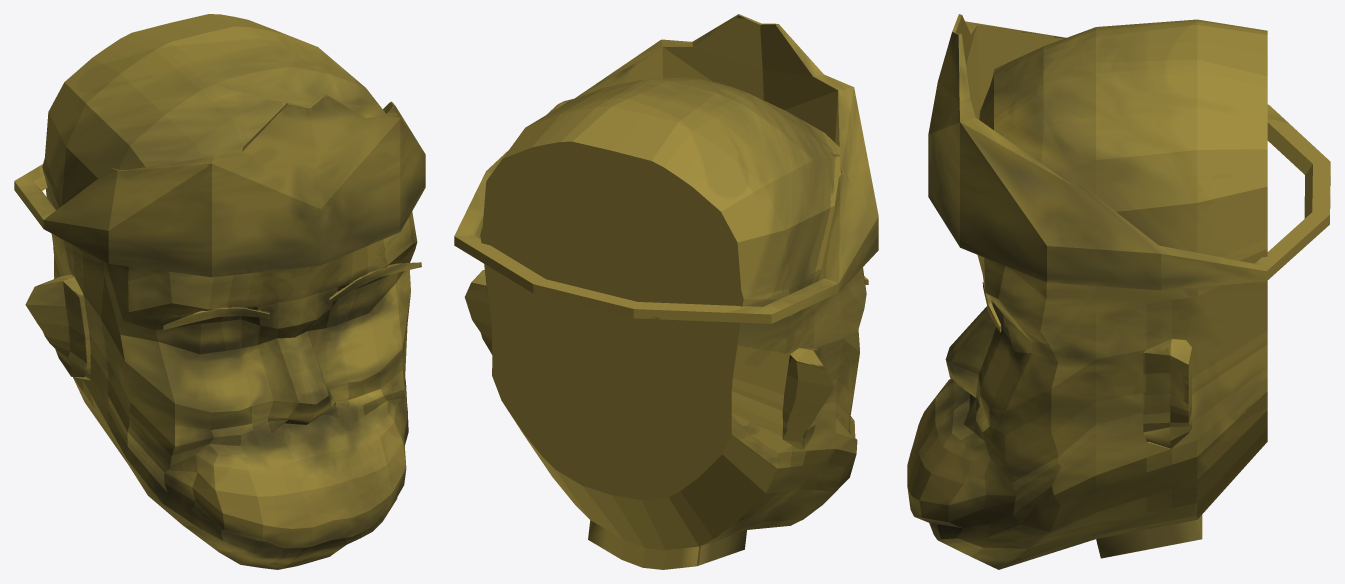
Rendered from f_head_4.fbx.
3 views of the same model, side by side, from view 1: azimuth 30°, elevation 25°; view 2: azimuth 150°, elevation 25°; view 3: azimuth 270°, elevation 25° (orthographic). The views are drawn at different scales.
Parts seen in each view (by area): view 1: Circle.002; view 2: Circle.002; view 3: Circle.002.
Part boxes in pixels (x1,y1,x2,y2): Circle.002: (14,14,425,569); Circle.002: (454,14,878,569); Circle.002: (907,14,1330,569).
Size of the model in its own units: 116 by 147 by 107.
1 material, 1 textured.
